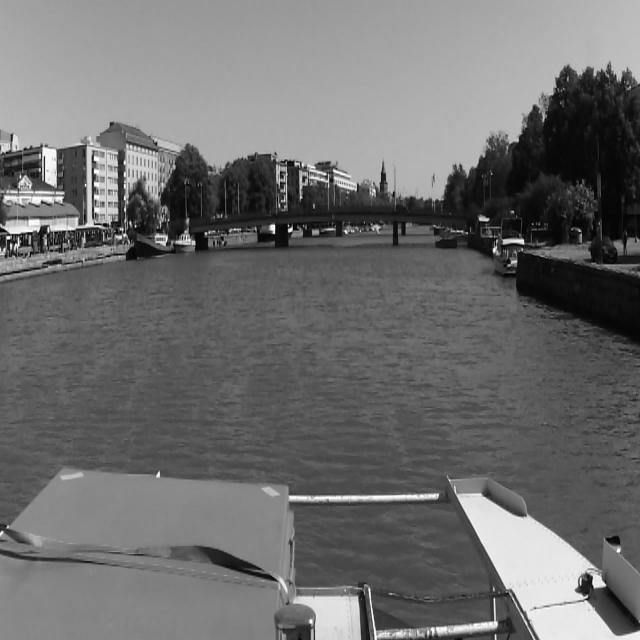ship: (490, 229, 518, 275), (134, 225, 174, 256), (175, 231, 195, 253)
